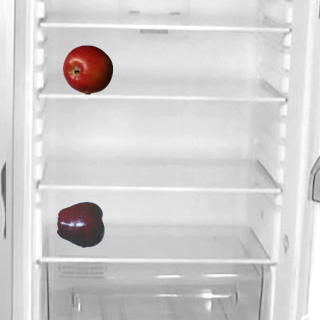Apple Braeburn: (62, 44, 112, 94)
Apple Red Delicious: (56, 199, 106, 249)
